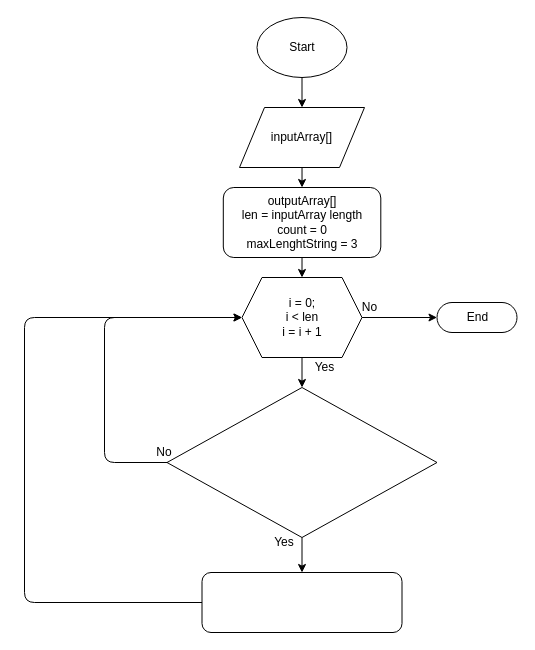
Some shapes in this 535 by 650 pixel diagram are drawn without their labels. Here are the shapes that lost their labels. From the top down, the centre of each, then its label:
the point at 301,462: inputArray[i].length <= maxLengthString
the point at 301,602: outputArray[count] = inputArray[i] count++
